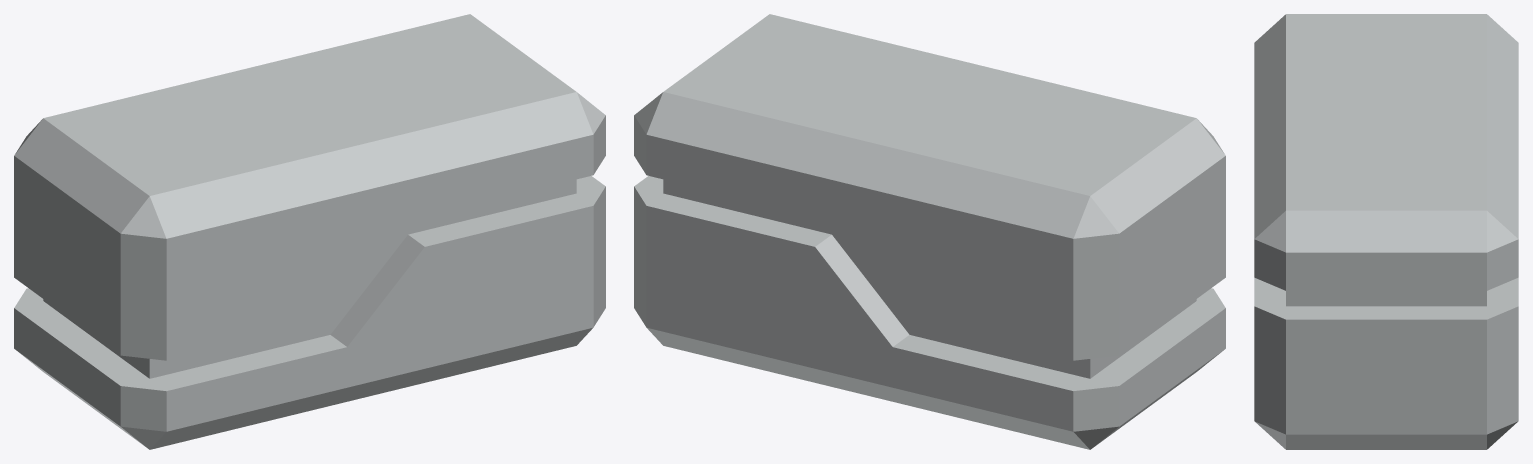
Rendered from 25x25x50Block.obj.
3 renders of one model, left to right at view 1: azimuth 30°, elevation 25°; view 2: azimuth 150°, elevation 25°; view 3: azimuth 270°, elevation 25°, orthographic. The views are drawn at different scales.
Visible parts, largest first — view 1: 25x50x25Block_25x50x25Block.001; view 2: 25x50x25Block_25x50x25Block.001; view 3: 25x50x25Block_25x50x25Block.001.
Boxes of the visible parts, x1,y1,x2,y2 form: 25x50x25Block_25x50x25Block.001: (14,14,605,449); 25x50x25Block_25x50x25Block.001: (634,14,1225,449); 25x50x25Block_25x50x25Block.001: (1254,14,1518,449).
Size of the model in its own units: 0.5 by 0.25 by 0.25.
